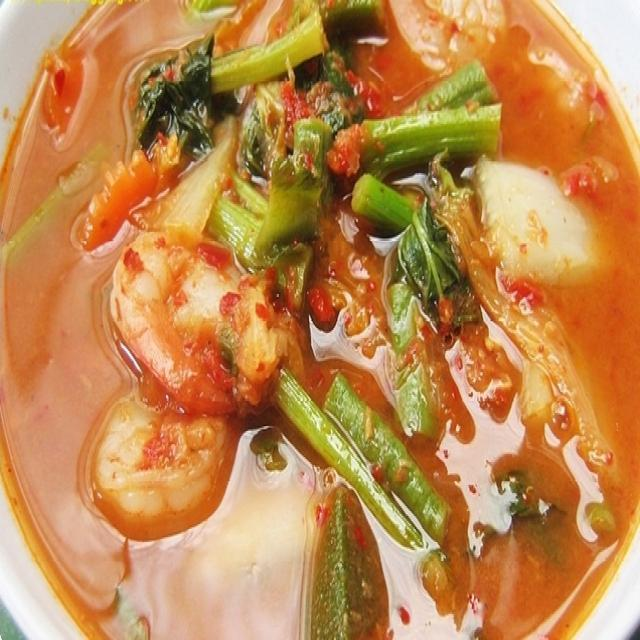汤锅炖物: (21, 26, 602, 616)
